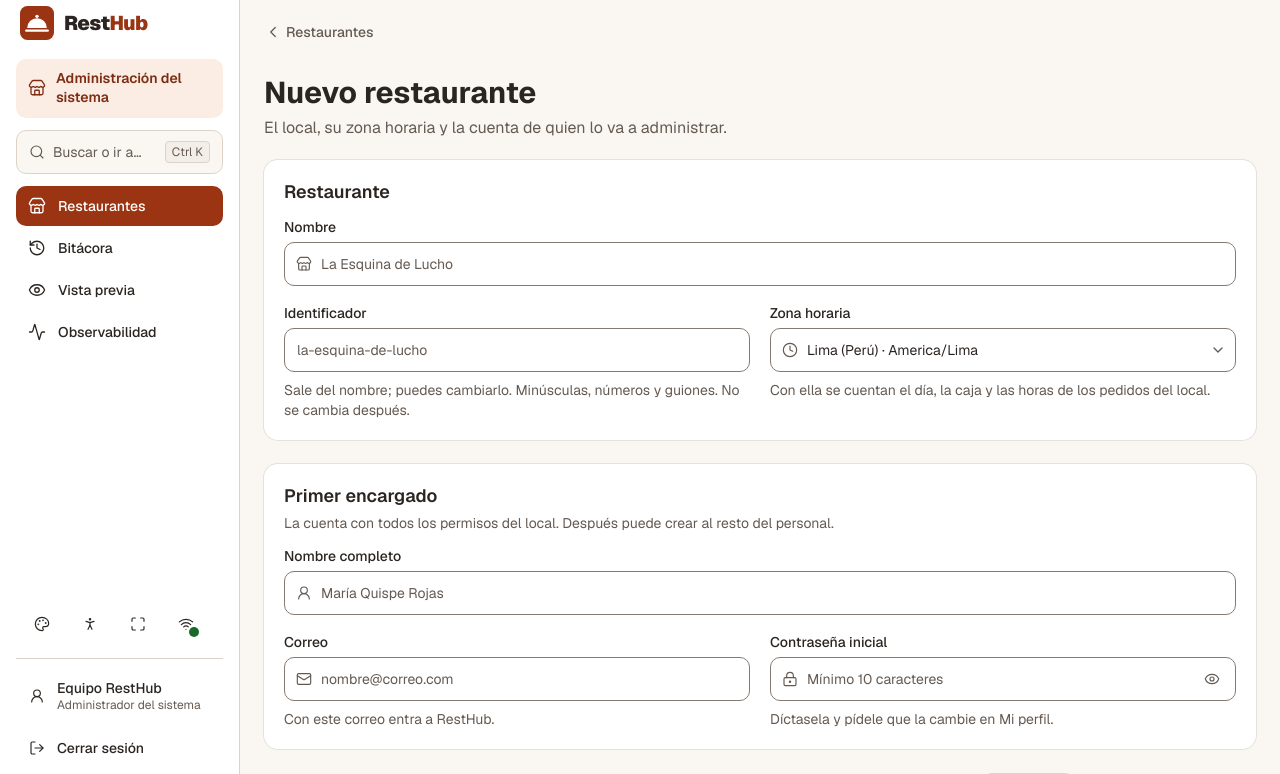
NewRestaurantView › si el identificador ya existe, muestra el motivo y no sale del alta
Type "Café Ñandú" into the field labelled "Nombre" at (760, 264), box 284,242 -> 1236,286
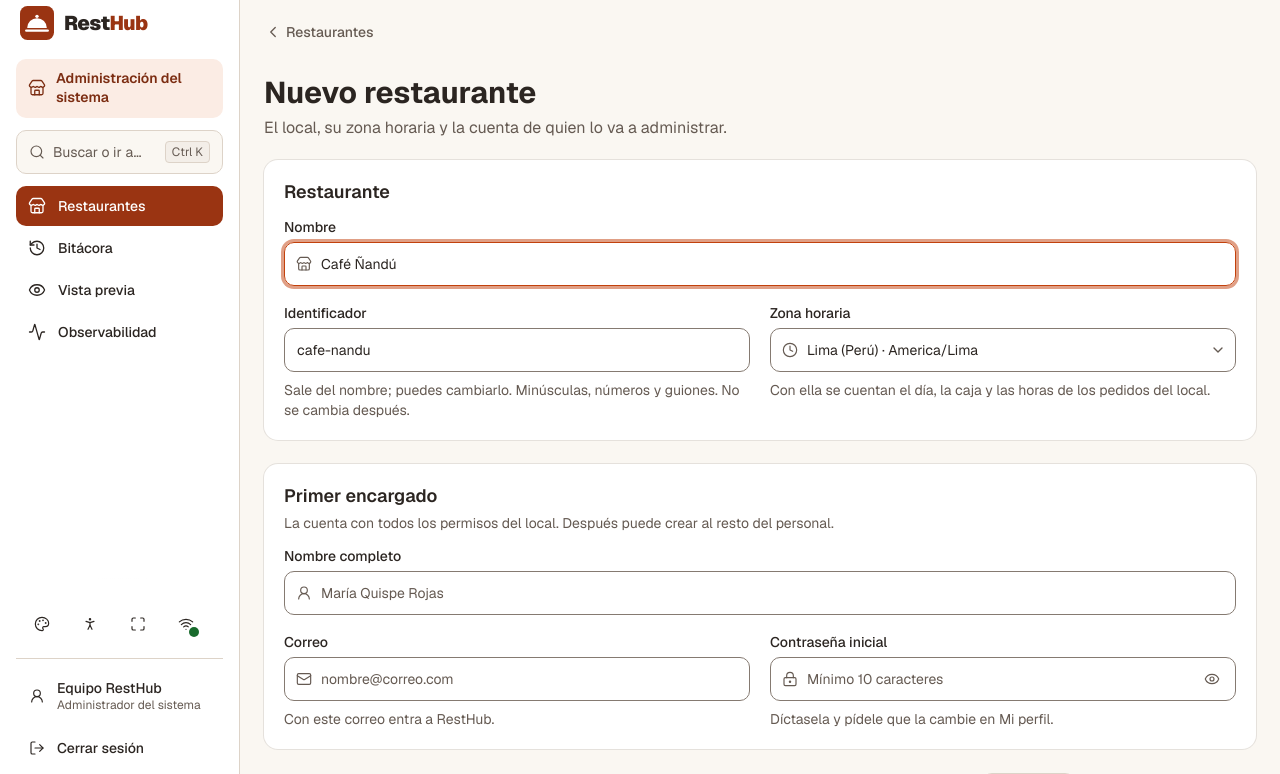
Type "Rosa Díaz" into the field labelled "Nombre completo" at (760, 593), box 284,571 -> 1236,615
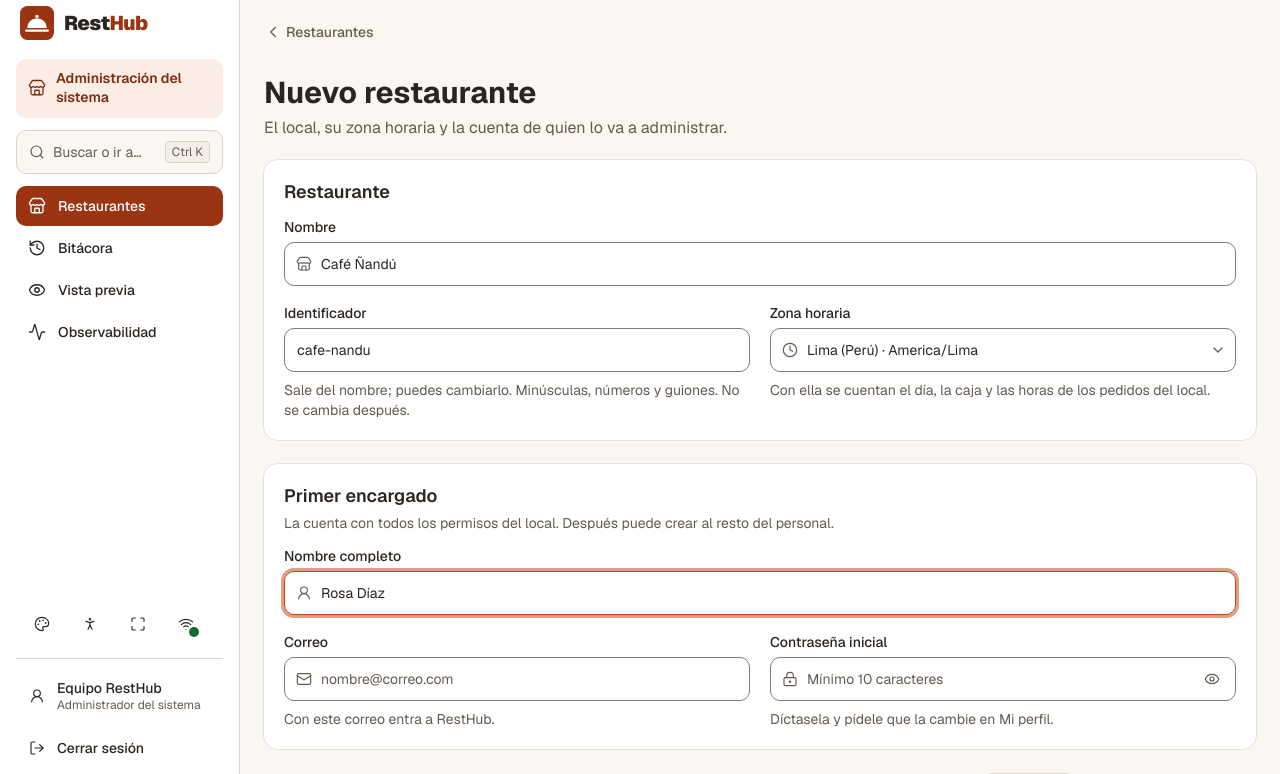
Type "rosa@nandu.pe" into the field labelled "Correo" at (517, 679), box 284,657 -> 750,701
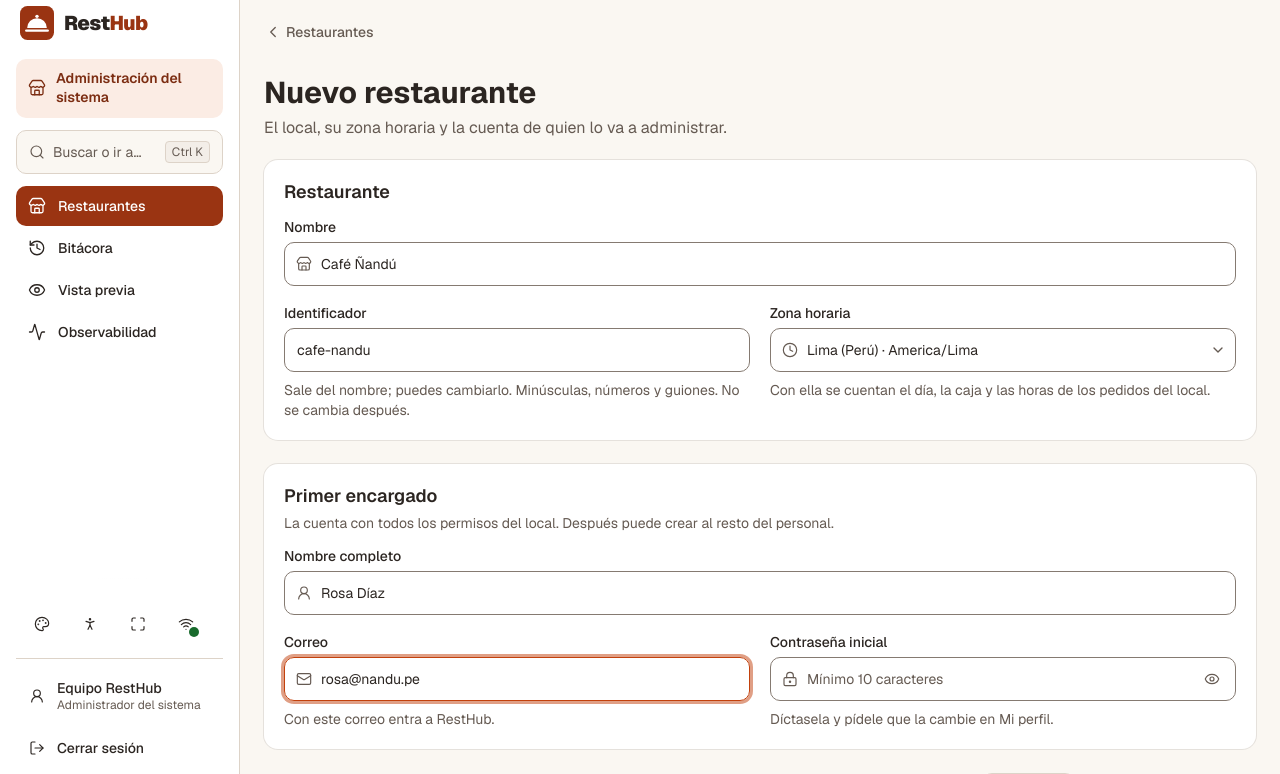
Type "clave-segura-1" into the password field labelled "Contraseña inicial" at (1003, 679), box 770,657 -> 1236,701
(page scrolled)
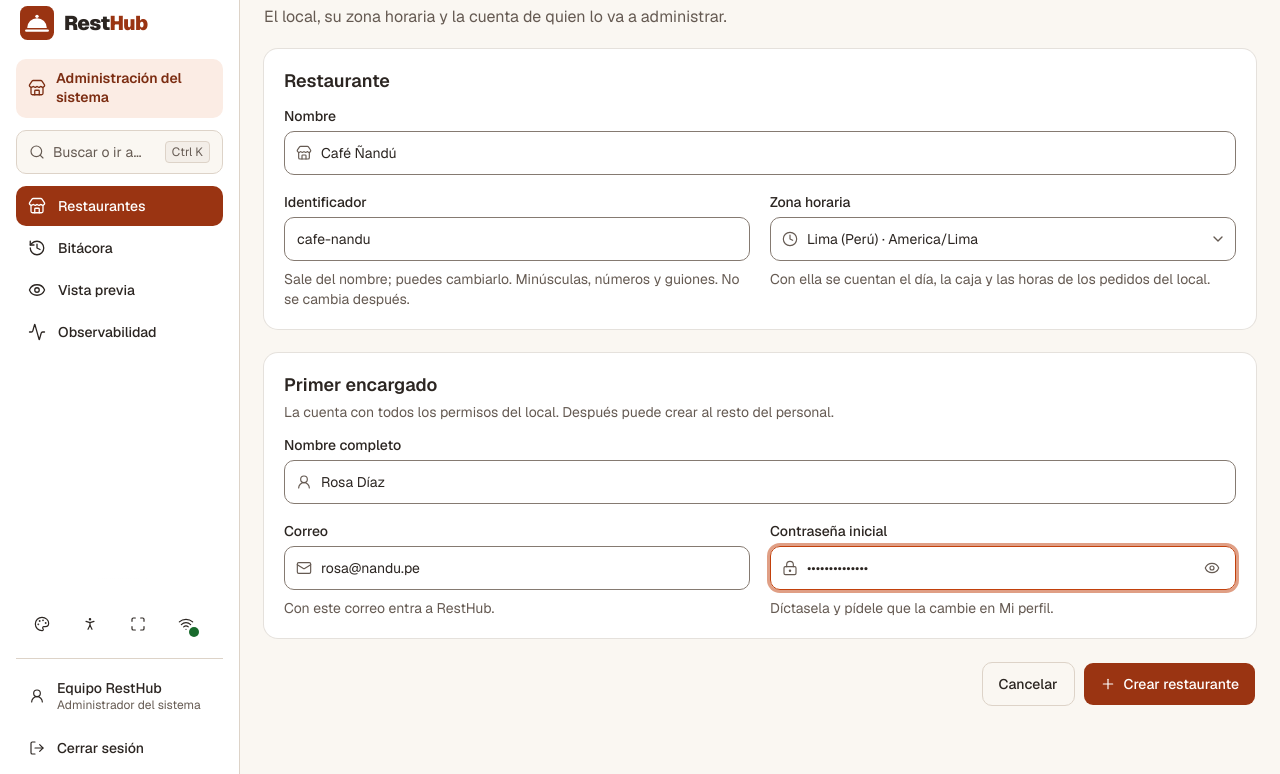
Click the button "Crear restaurante" at (1169, 684), box 1082,662 -> 1256,706
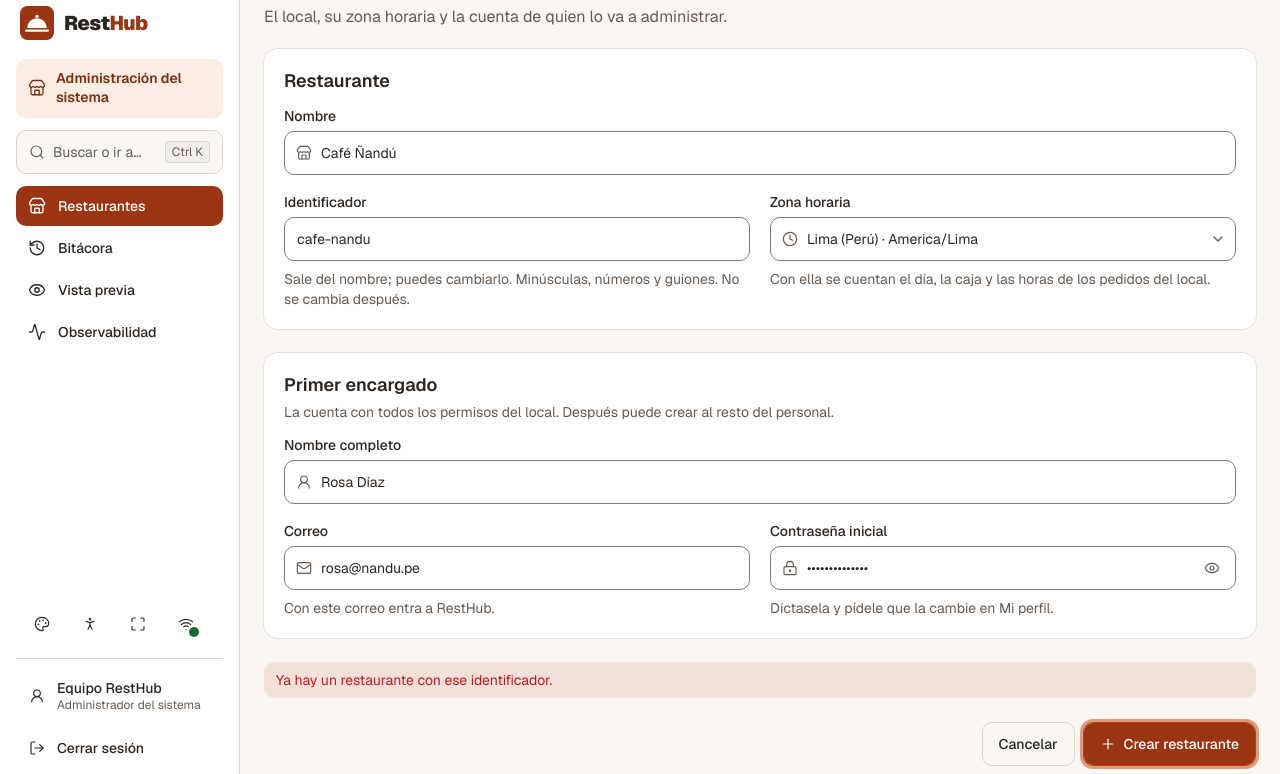
Now the text "Ya hay un restaurante con ese identificador." is shown, box 264,662 -> 1256,698
